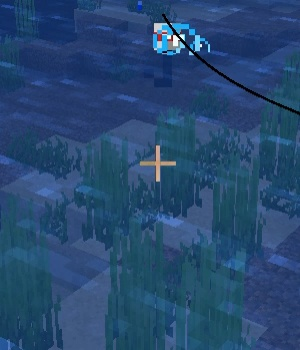up: (149, 14, 189, 92)
